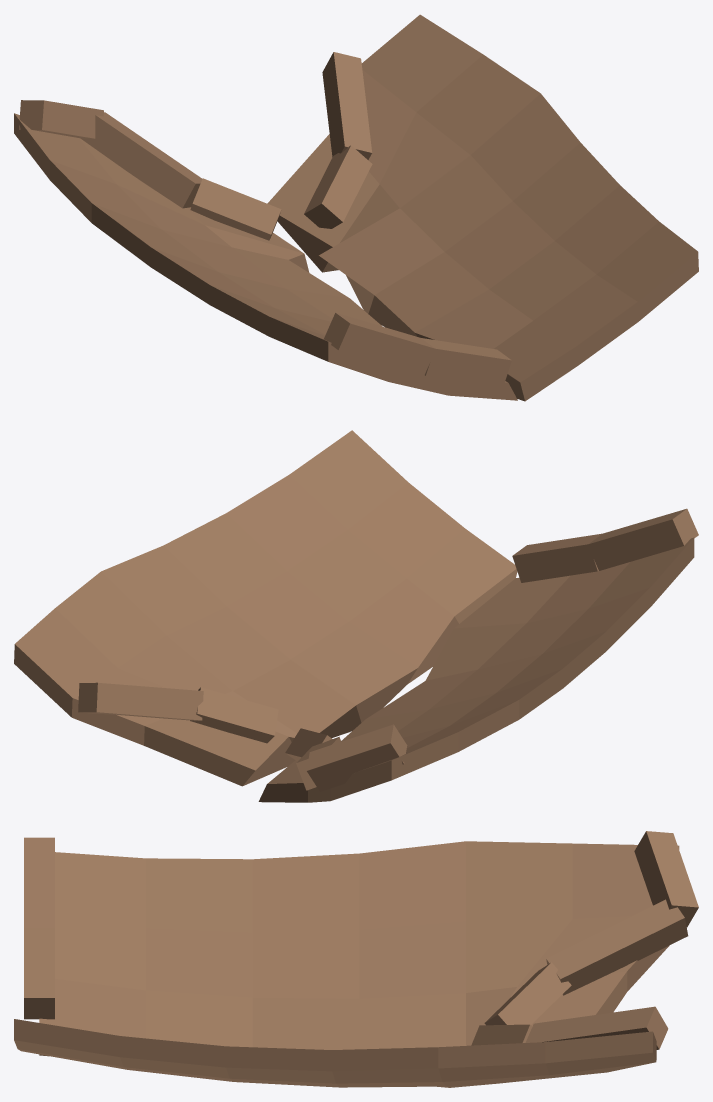
File: prop_breastplate.glb
3 views of the same model, one above another, from view 1: azimuth 30°, elevation 25°; view 2: azimuth 150°, elevation 25°; view 3: azimuth 270°, elevation 25° (orthographic). The views are drawn at different scales.
Parts seen in each view (by area): view 1: prop_breastplate_mesh; view 2: prop_breastplate_mesh; view 3: prop_breastplate_mesh.
Part boxes in pixels (x1,y1,x2,y2): prop_breastplate_mesh: (14, 14, 698, 401); prop_breastplate_mesh: (14, 430, 698, 802); prop_breastplate_mesh: (14, 831, 698, 1087).
Size of the model in its own units: 0.4066 by 0.1402 by 0.5352.
